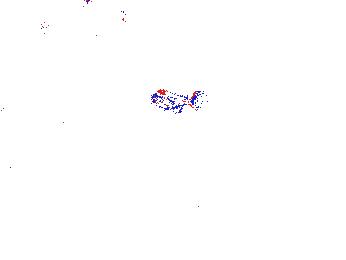red belly glassfish: (151, 89, 197, 113), (35, 15, 60, 37)
redtail glassfish: (82, 1, 134, 28)
